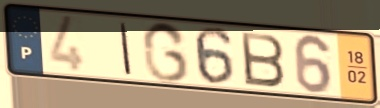4: (47, 13, 88, 76)
6: (192, 25, 236, 87), (293, 33, 333, 96)
B: (238, 29, 288, 90)
G: (141, 19, 192, 84)
I: (118, 20, 134, 77)
